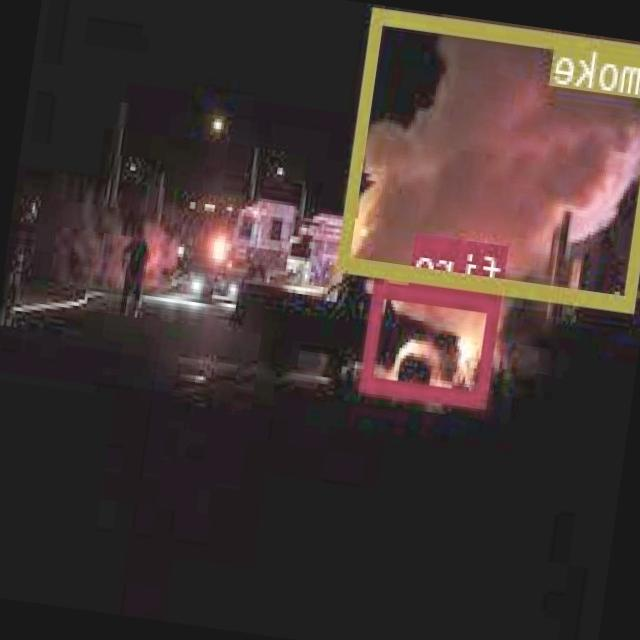fire: (363, 279, 504, 405)
smoke: (341, 8, 640, 308)
